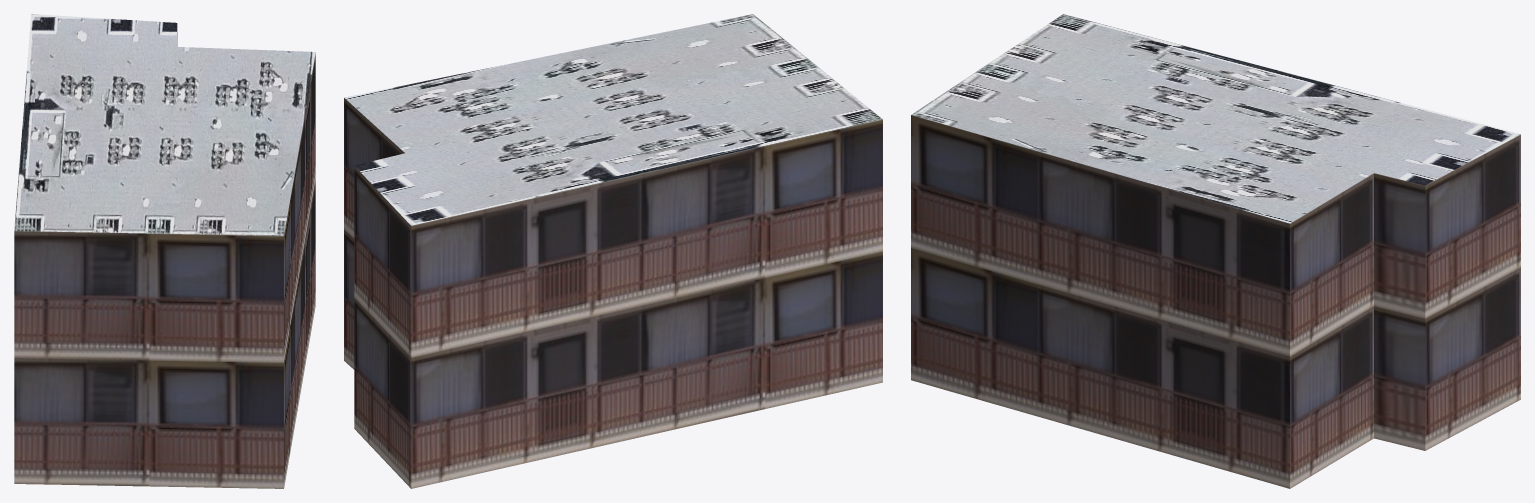
The model's file is ResTex__4128.fbx.
The picture shows the model from 3 angles, left to right: view 1: azimuth 30°, elevation 25°; view 2: azimuth 150°, elevation 25°; view 3: azimuth 270°, elevation 25°; orthographic projection. The views are drawn at different scales.
Visible parts, largest first — view 1: CityEngineMaterial_6_m, CityEngineMaterial_m; view 2: CityEngineMaterial_6_m, CityEngineMaterial_m; view 3: CityEngineMaterial_6_m, CityEngineMaterial_m.
Boxes of the visible parts, left/top/right/bottom form: CityEngineMaterial_6_m: left=14, top=29, right=315, bottom=488; CityEngineMaterial_m: left=14, top=14, right=315, bottom=235; CityEngineMaterial_6_m: left=344, top=98, right=882, bottom=488; CityEngineMaterial_m: left=344, top=14, right=882, bottom=225; CityEngineMaterial_6_m: left=911, top=115, right=1520, bottom=488; CityEngineMaterial_m: left=911, top=14, right=1520, bottom=223.
Size of the model in its own units: 10.17 by 6 by 12.5.
2 materials, 2 textured.
